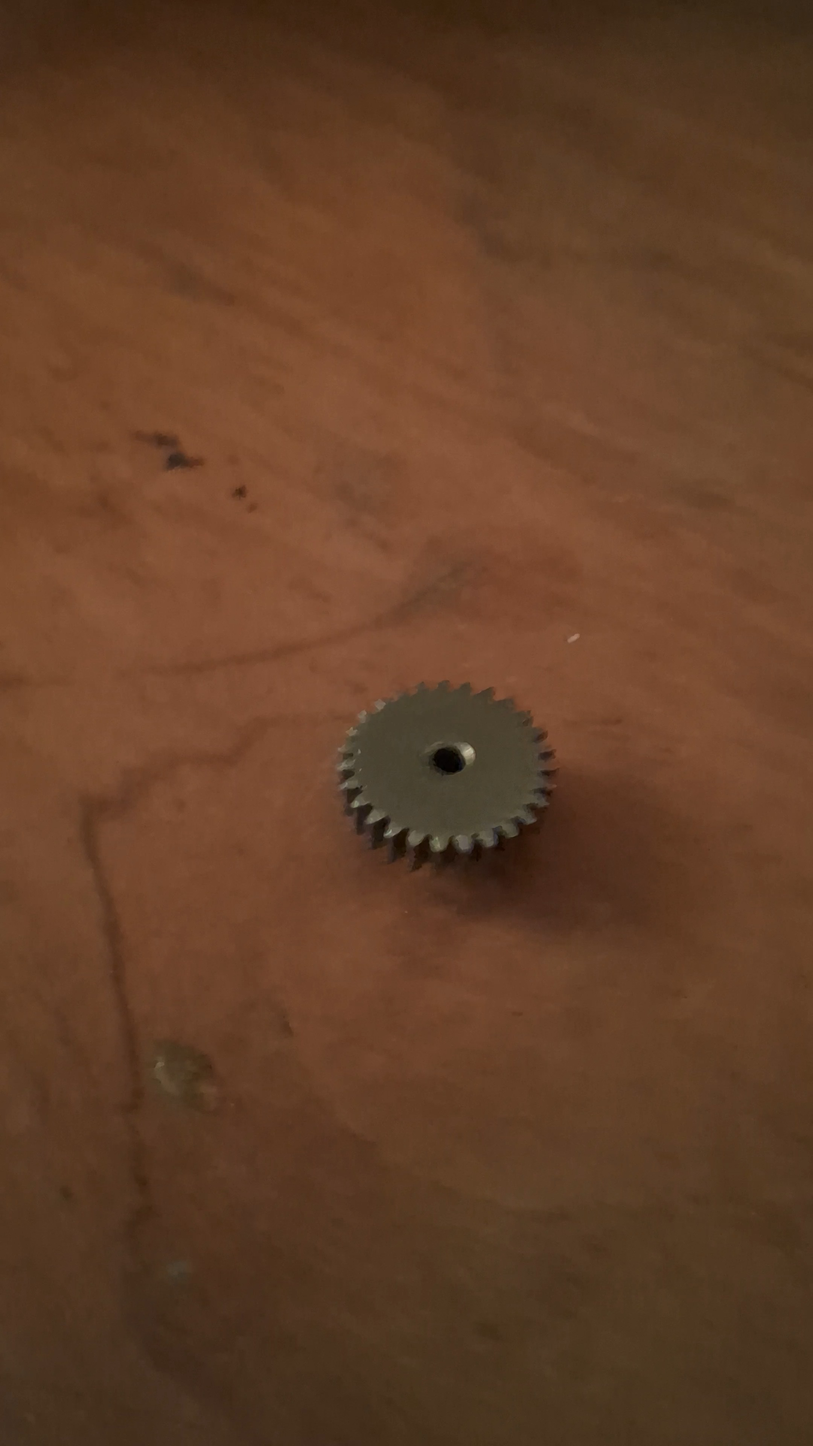spur gear: (338, 682, 554, 865)
